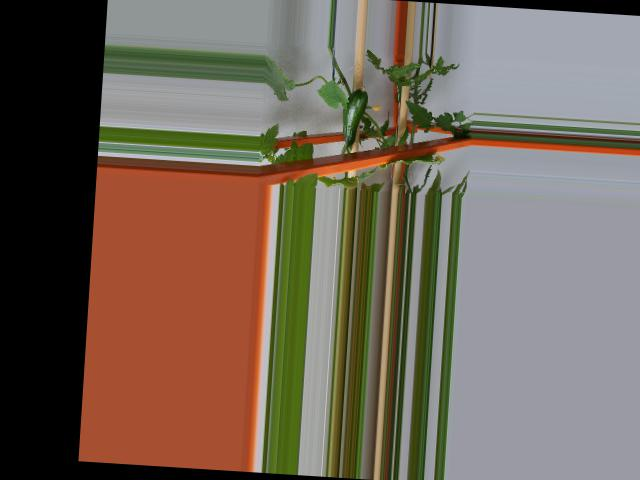cucumber: (341, 83, 369, 145)
